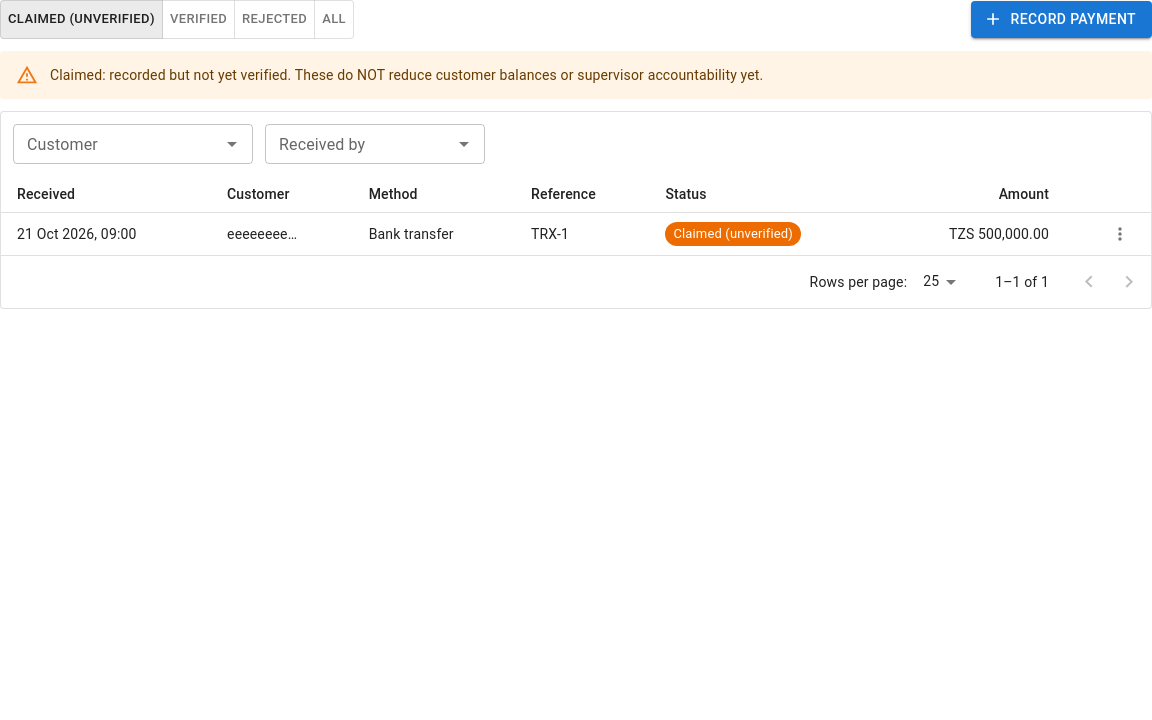
PaymentsTab › does not let the recorder verify their own payment (segregation of duties)
Click the button named "Actions for payment TRX-1". click: (1120, 234)
box: [1105,219,1135,249]
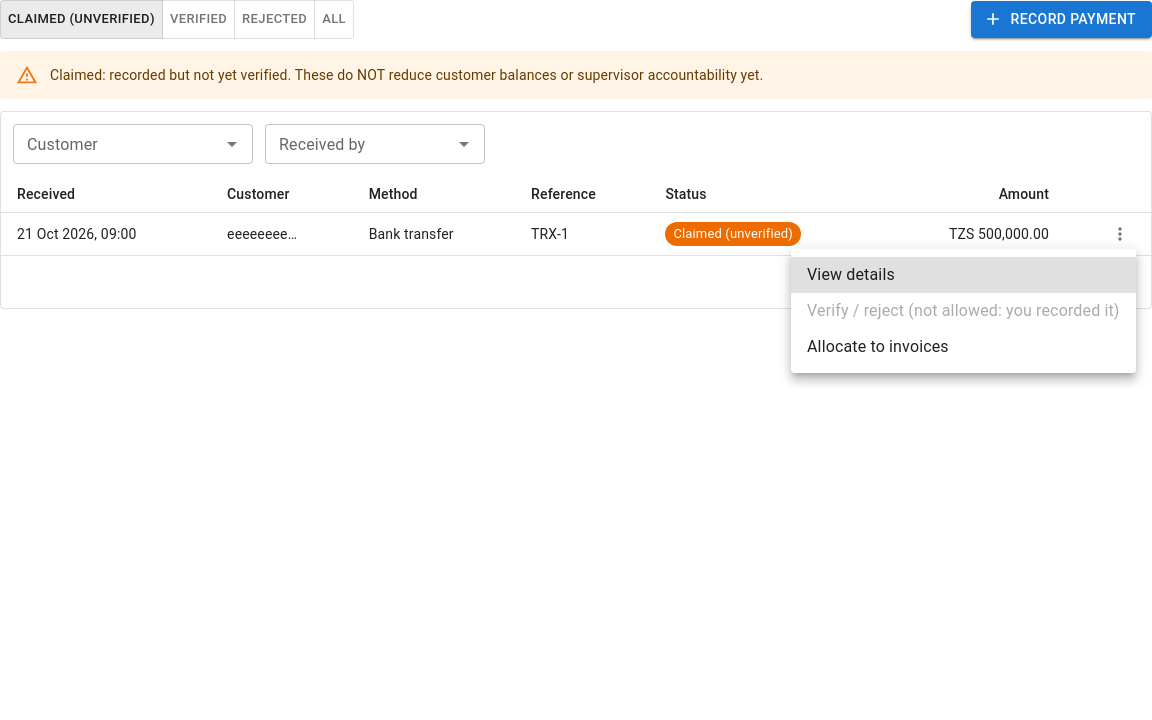
Press Escape
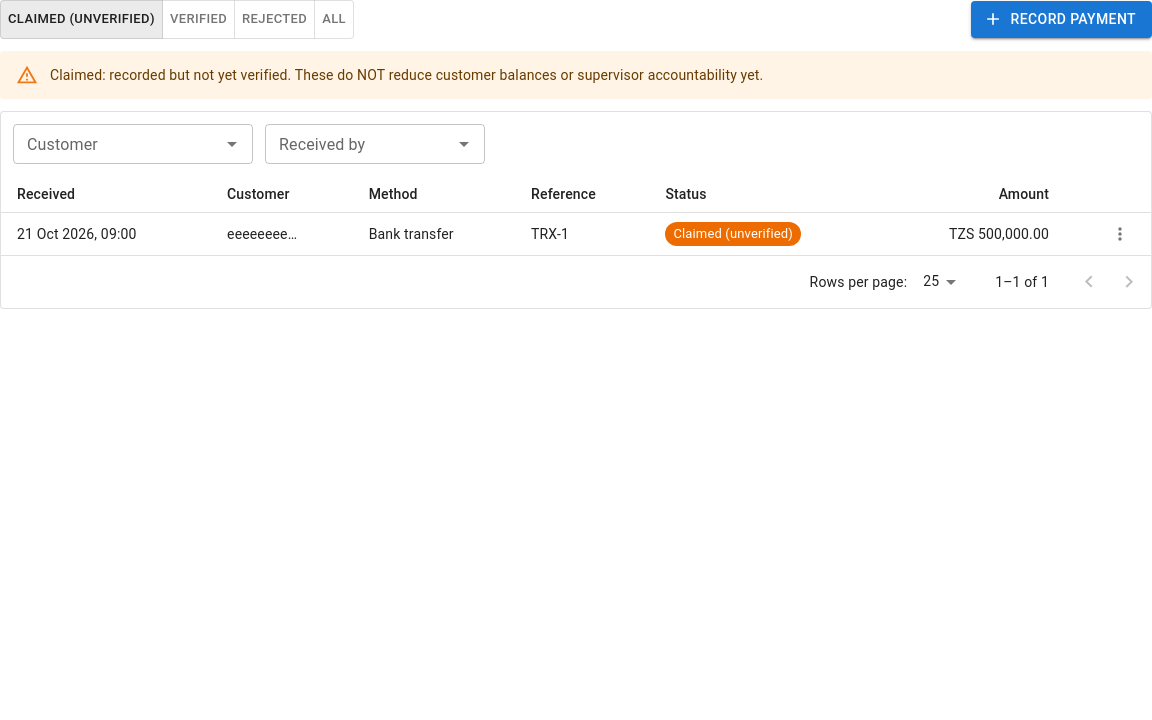
Click the text "TRX-1". click: (582, 234)
box: [515,212,649,255]
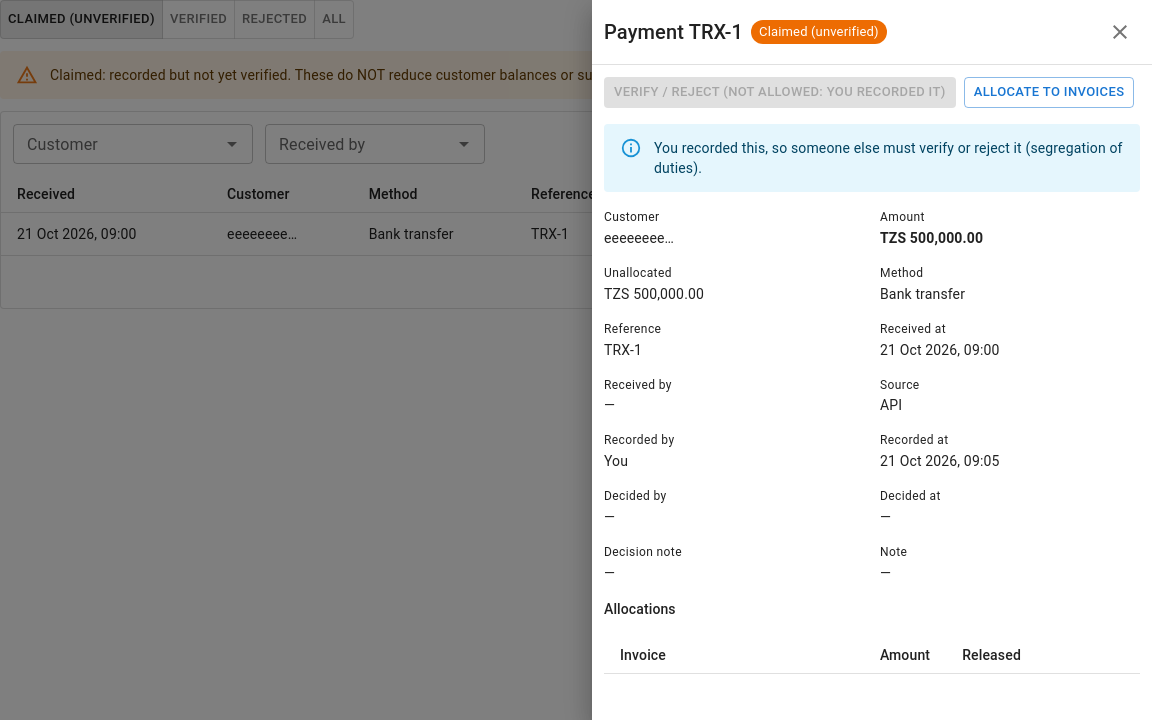
Expected: the text "someone else must verify or reject it" is shown, [654,140,1122,176]
